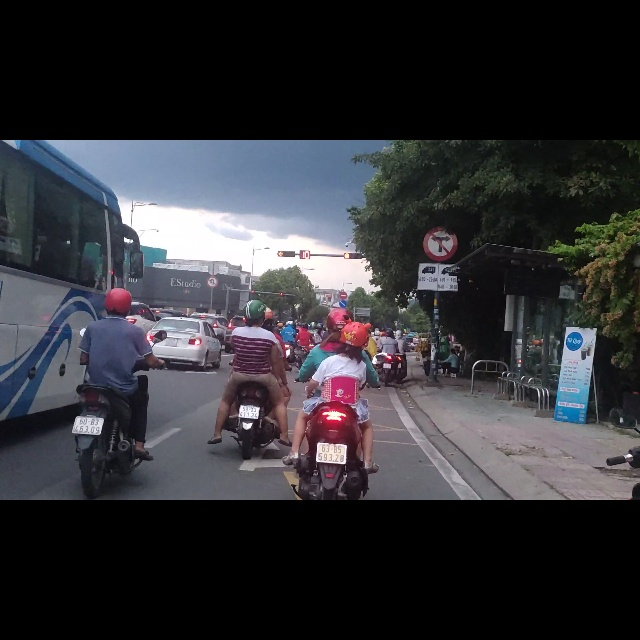bien_cam: (416, 216, 459, 270), (422, 153, 458, 217), (206, 242, 218, 264), (339, 269, 348, 283), (339, 284, 347, 299)
